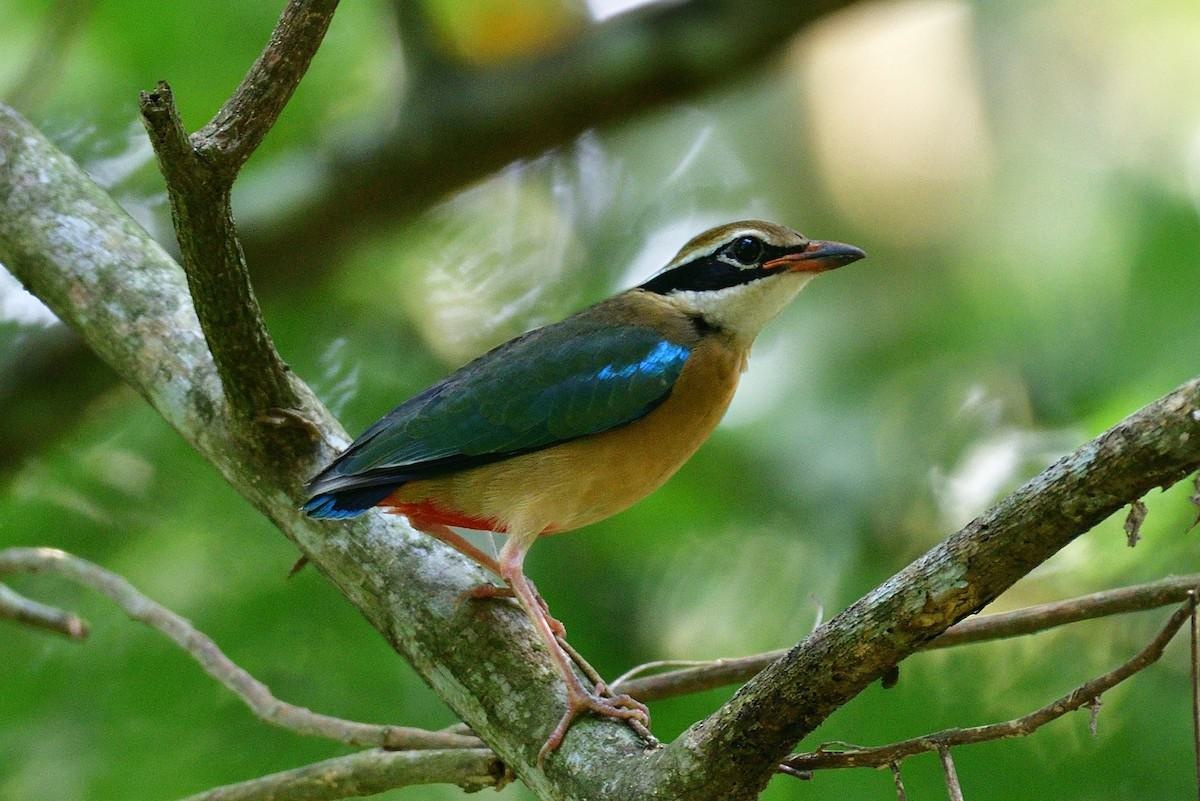pitta: (323, 181, 889, 656)
